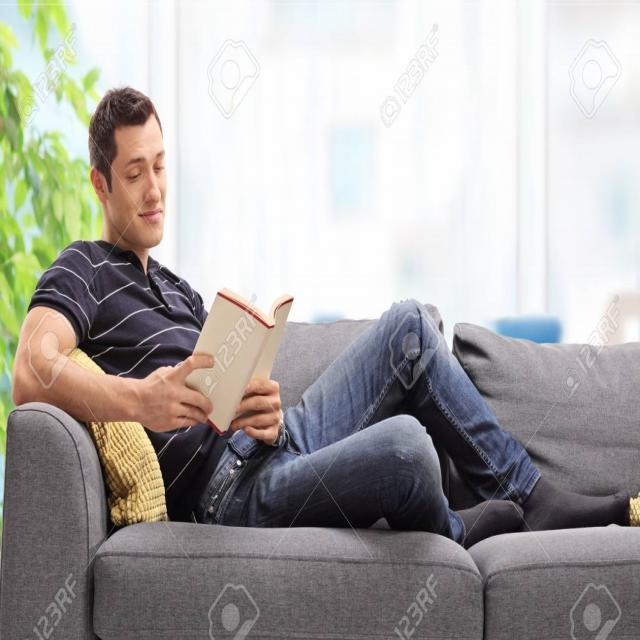sitting: (11, 82, 637, 556)
